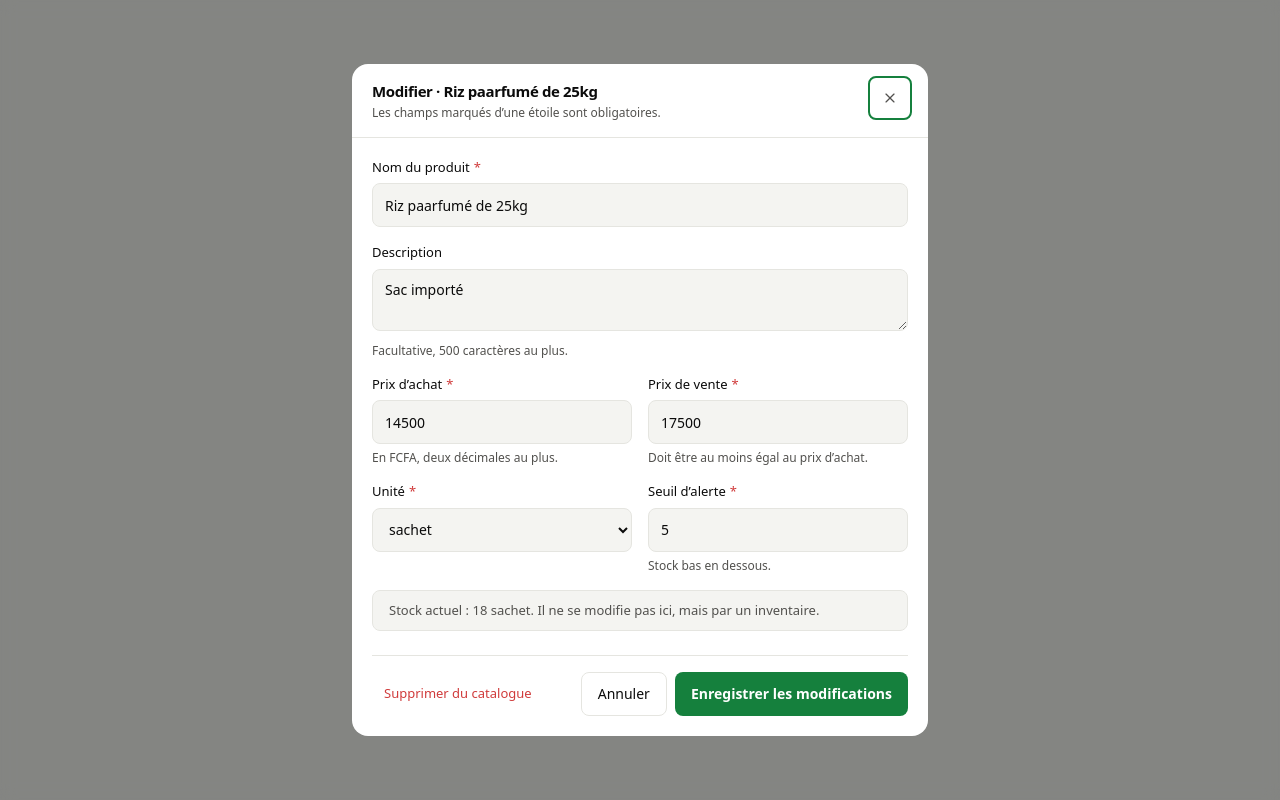
it: modification d'un produit › affiche l’erreur du serveur sous le champ visé
Step 1. Click the button "Enregistrer les modifications" → (791, 694), box left=675, top=672, right=908, bottom=716
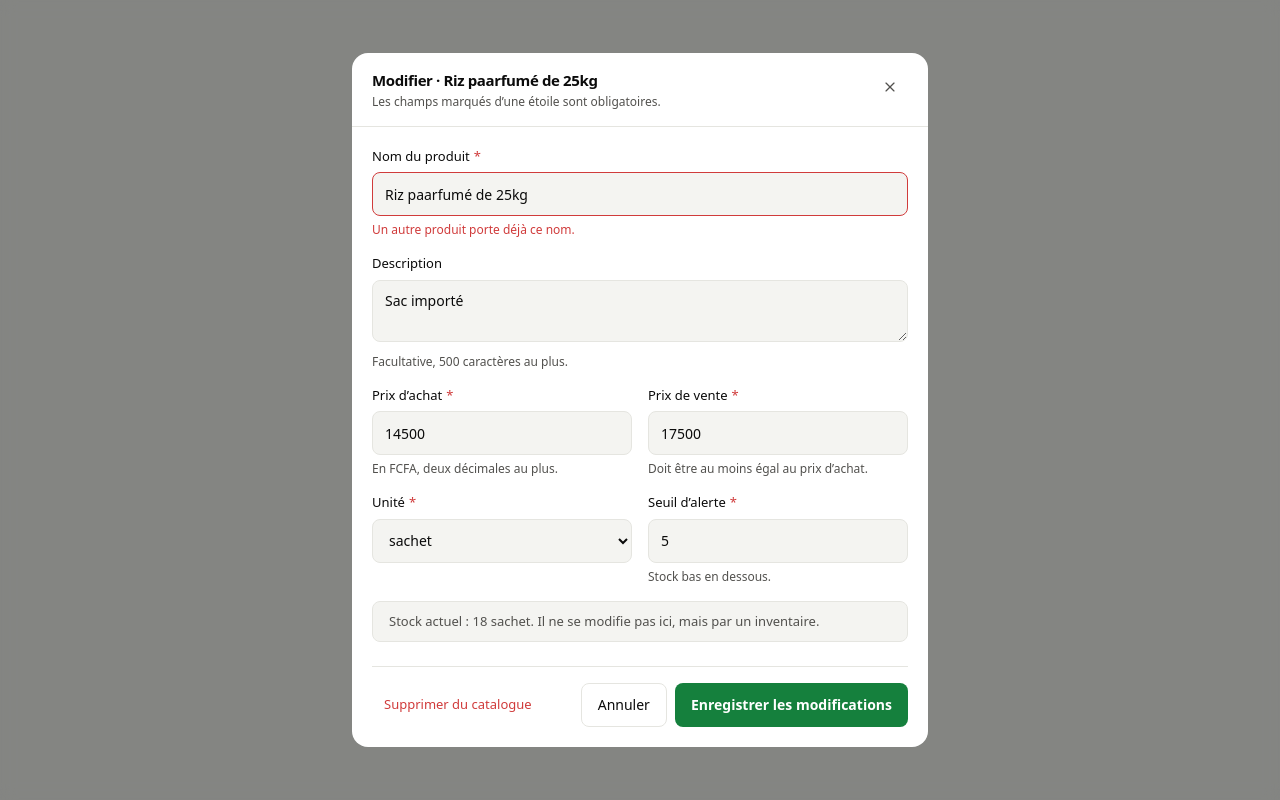
Expected: the text "Un autre produit porte déjà ce nom." is shown, left=372, top=221, right=575, bottom=238
